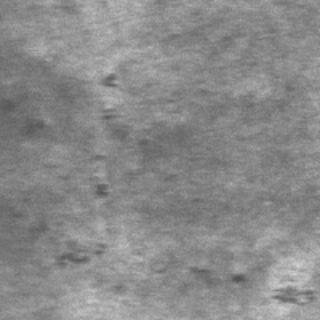rolled pit: (45, 231, 312, 309), (72, 66, 132, 200)
